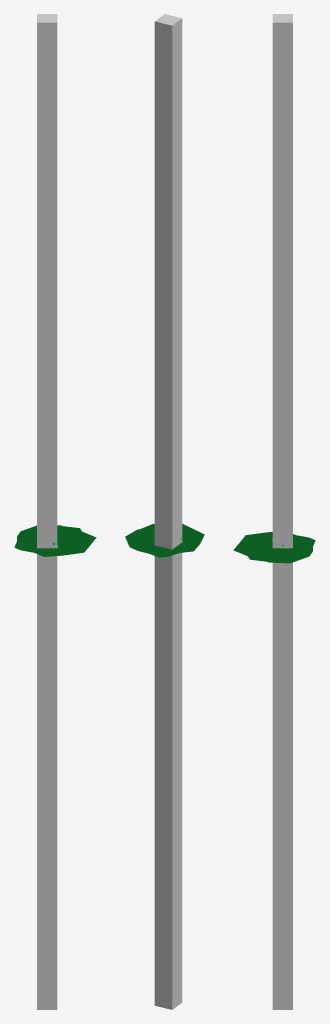
Rendered from MAP08.glb.
3 renders of one model, left to right at view 1: azimuth 90°, elevation 25°; view 2: azimuth 150°, elevation 25°; view 3: azimuth 270°, elevation 25°, orthographic.
Visible parts, largest first — view 1: Cube.001, Cube; view 2: Cube.001, Cube; view 3: Cube.001, Cube.
Boxes of the visible parts, x1=… form: Cube.001: x1=37, y1=14, x2=57, y2=1009; Cube: x1=14, y1=525, x2=96, y2=556; Cube.001: x1=154, y1=14, x2=182, y2=1009; Cube: x1=125, y1=524, x2=204, y2=557; Cube.001: x1=272, y1=14, x2=292, y2=1009; Cube: x1=233, y1=532, x2=315, y2=563.
Bounding box in the file's own units: 3166 × 44699 × 3379.
